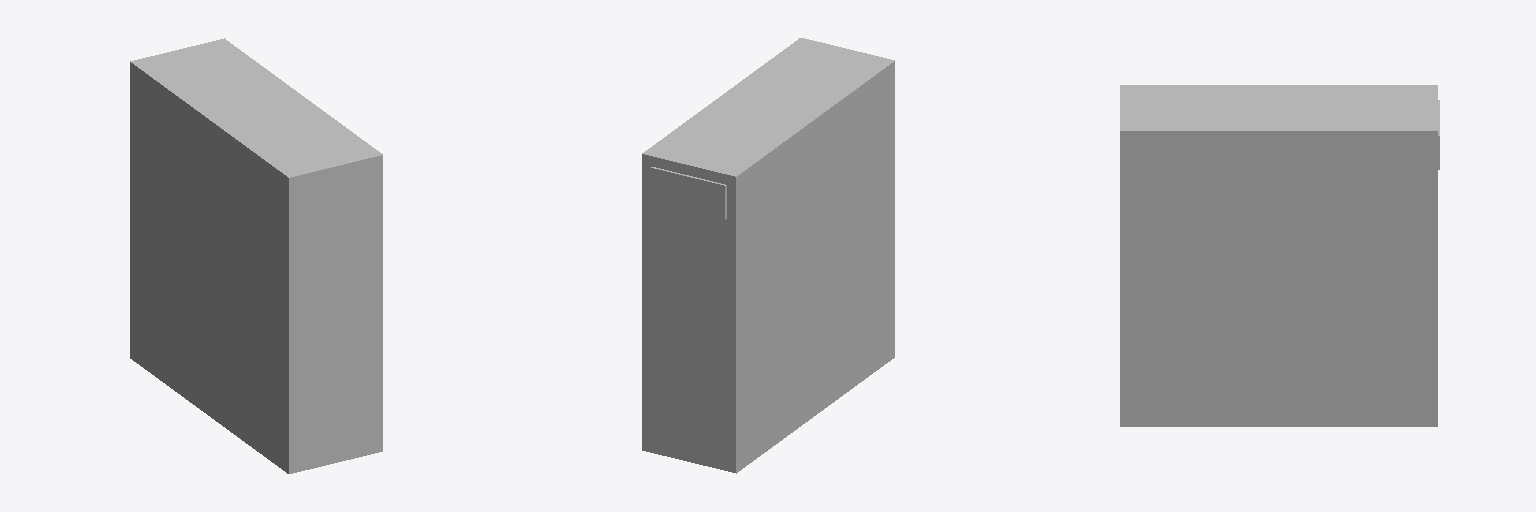
File: BasicTowerComputer.obj
3 views of the same model, side by side, from view 1: azimuth 30°, elevation 25°; view 2: azimuth 150°, elevation 25°; view 3: azimuth 270°, elevation 25° (orthographic).
Visible parts, largest first — view 1: Cube; view 2: Cube; view 3: Cube.
Boxes of the visible parts, x1,y1,x2,y2 form: Cube: [130, 38, 382, 473]; Cube: [642, 38, 894, 473]; Cube: [1120, 85, 1439, 426].
Size of the model in its own units: 2 by 6 by 5.87.